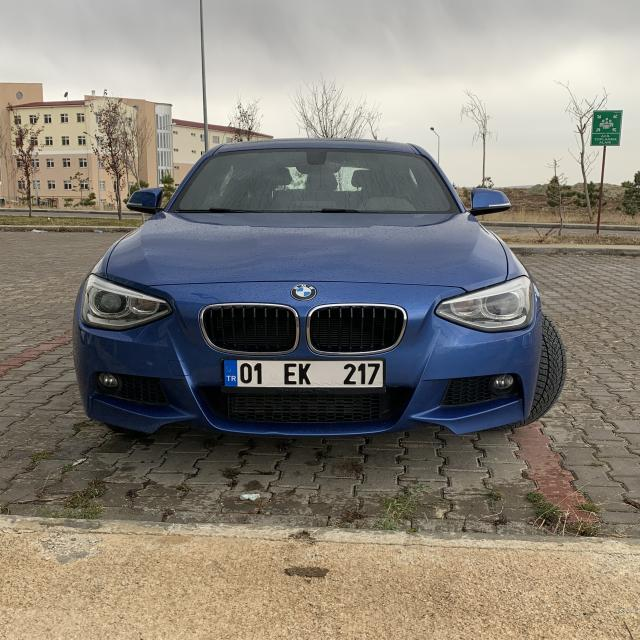license_plate: (223, 358, 384, 388)
